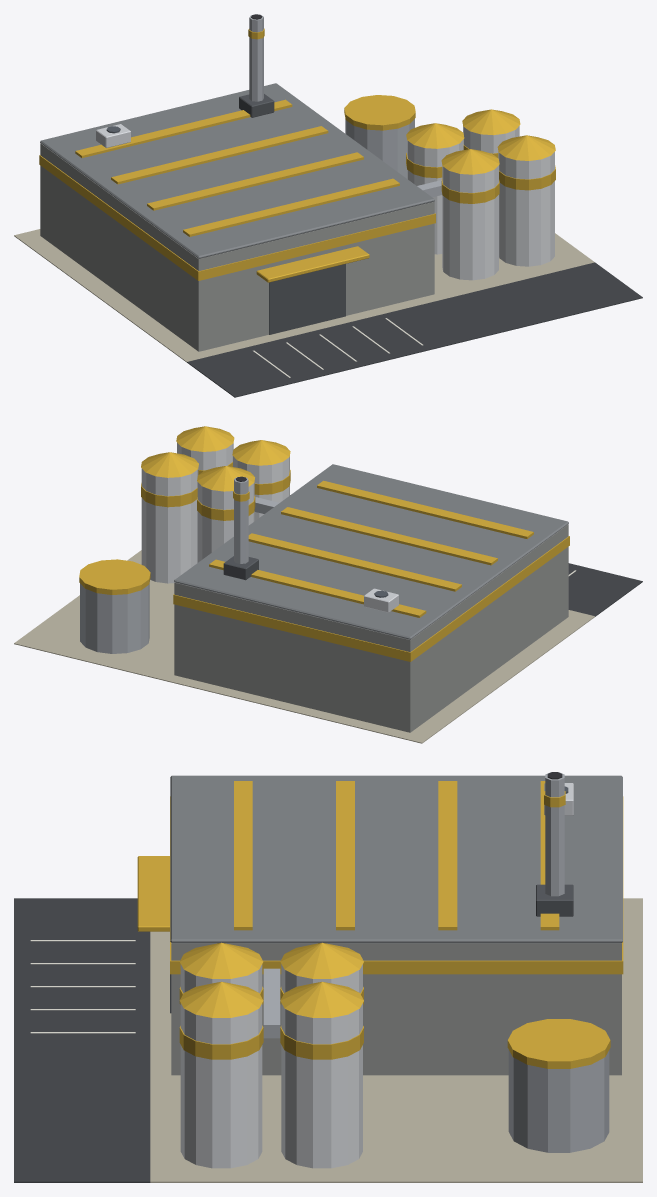
Rendered from foodplant.glb.
The picture shows the model from 3 angles, top to bottom: view 1: azimuth 30°, elevation 25°; view 2: azimuth 150°, elevation 25°; view 3: azimuth 270°, elevation 25°; orthographic projection. The views are drawn at different scales.
Parts seen in each view (by area): view 1: foodplant; view 2: foodplant; view 3: foodplant.
Part boxes in pixels (x1,y1,x2,y2): foodplant: (14,14,642,397); foodplant: (14,426,642,743); foodplant: (14,772,642,1182).
Size of the model in its own units: 32 by 14.27 by 30.
